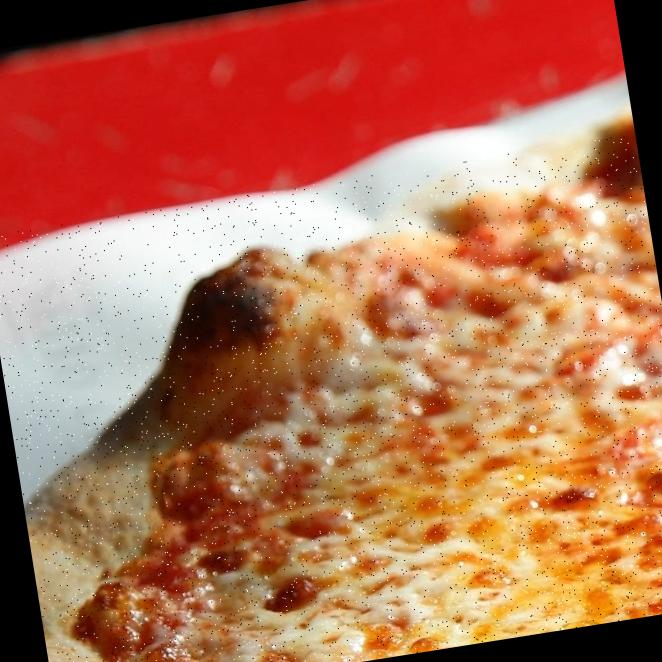Pizza: (0, 133, 662, 662)
